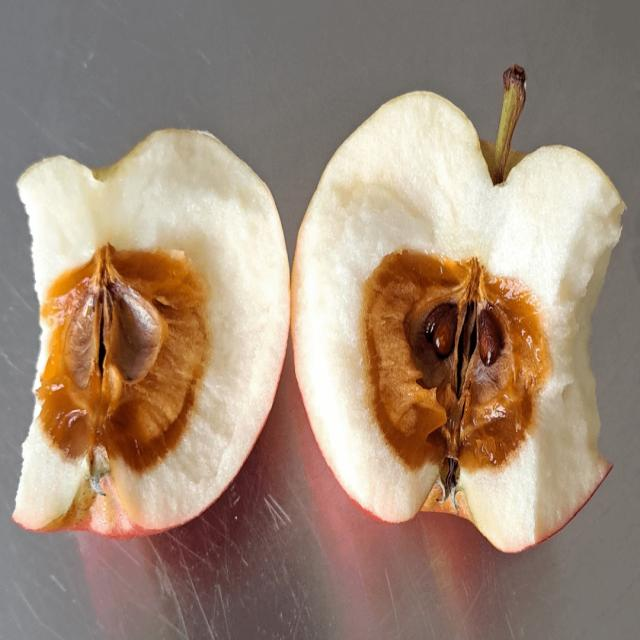apple_fruit: (285, 62, 639, 604)
